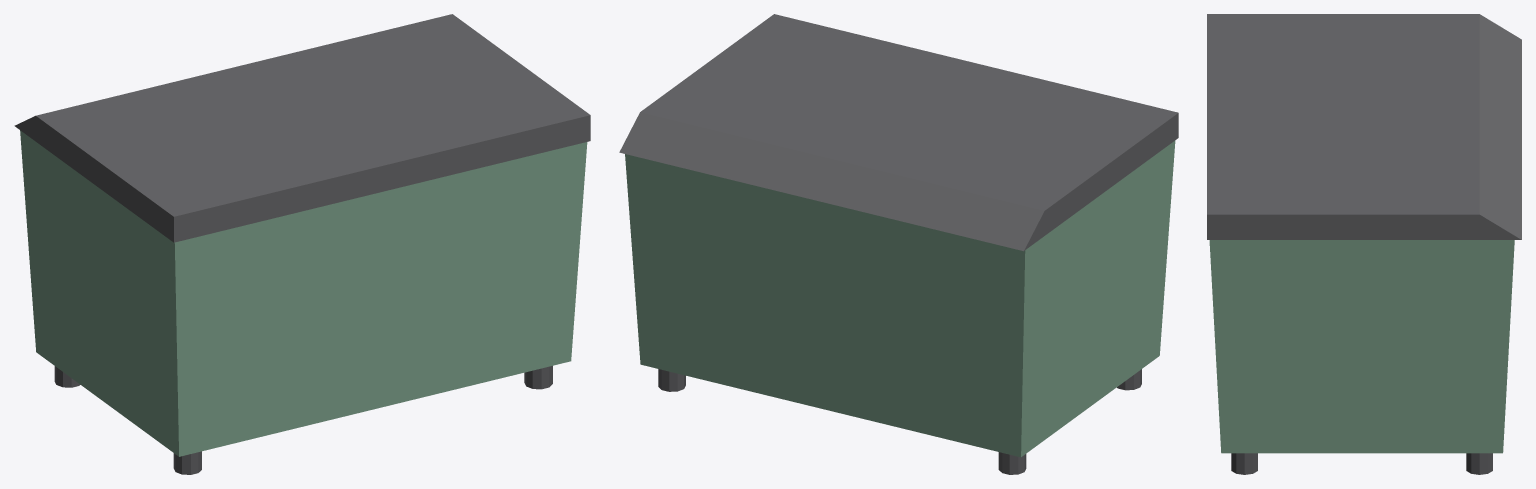
The model's file is dumpster.glb.
The picture shows the model from 3 angles, left to right: view 1: azimuth 30°, elevation 25°; view 2: azimuth 150°, elevation 25°; view 3: azimuth 270°, elevation 25°; orthographic projection. The views are drawn at different scales.
Visible parts, largest first — view 1: dumpster_dumpster, dumpster_dark, dumpster_rubber; view 2: dumpster_dumpster, dumpster_dark, dumpster_rubber; view 3: dumpster_dark, dumpster_dumpster, dumpster_rubber.
Part boxes in pixels (left/top/right/bottom): dumpster_dumpster: left=20, top=130, right=587, bottom=456; dumpster_dark: left=14, top=14, right=590, bottom=242; dumpster_rubber: left=54, top=366, right=552, bottom=474; dumpster_dumpster: left=625, top=140, right=1175, bottom=457; dumpster_dark: left=619, top=14, right=1178, bottom=251; dumpster_rubber: left=658, top=369, right=1141, bottom=474; dumpster_dark: left=1207, top=14, right=1521, bottom=239; dumpster_dumpster: left=1209, top=240, right=1514, bottom=453; dumpster_rubber: left=1231, top=453, right=1492, bottom=474.
Bounding box in the file's own units: 2.02 × 1.27 × 1.34.
